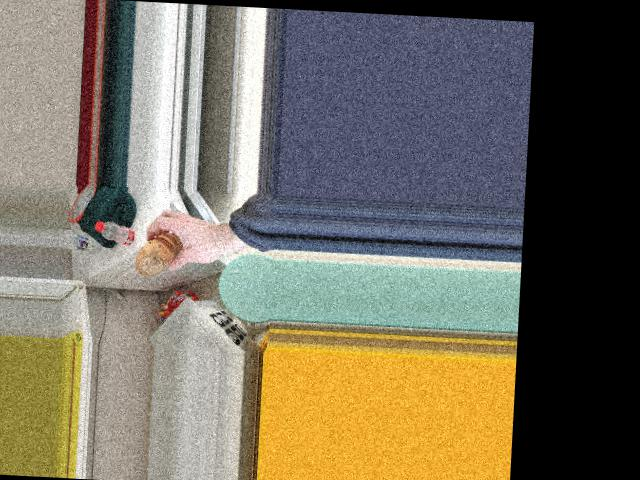sweet_potato: (136, 231, 185, 274)
